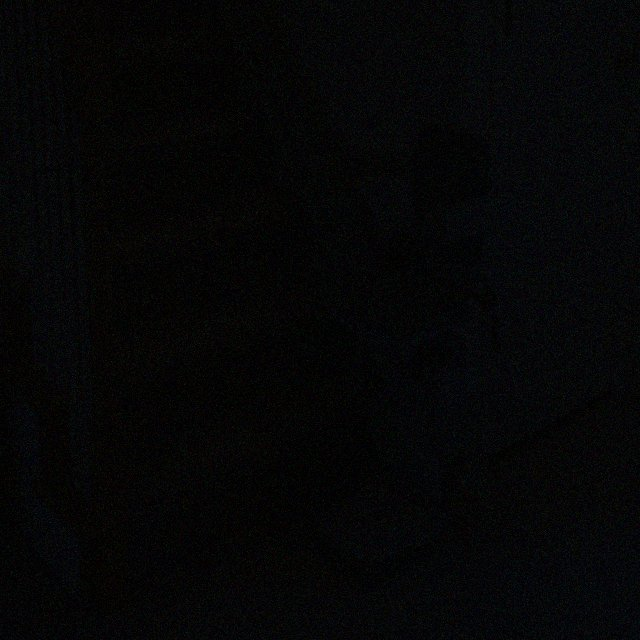stair: (105, 0, 373, 578)
